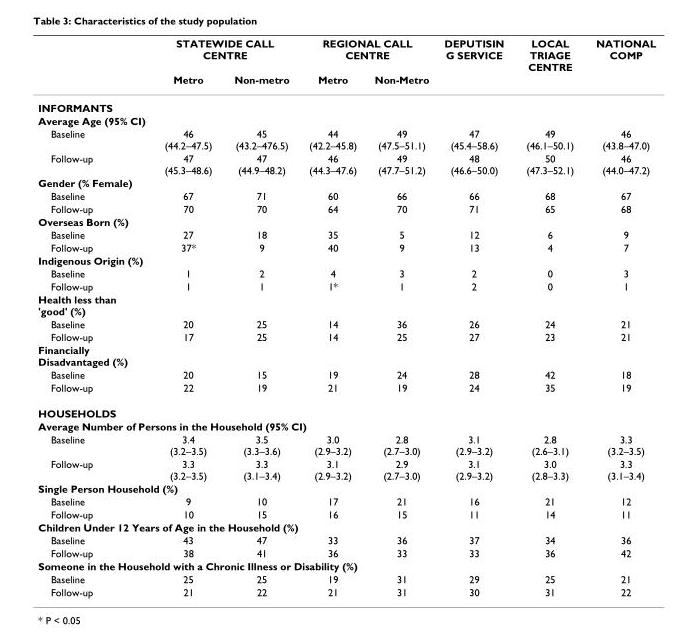table: (37, 36, 655, 597)
table column: (37, 36, 154, 597), (435, 36, 514, 597), (222, 36, 298, 597), (364, 36, 435, 597), (584, 36, 655, 597), (514, 36, 584, 597), (154, 36, 222, 597), (298, 36, 364, 597)
table column header: (37, 36, 655, 93)
table projected row header: (37, 292, 655, 317), (37, 342, 655, 367), (37, 93, 655, 113), (37, 399, 655, 419), (37, 113, 655, 126), (37, 175, 655, 188), (37, 214, 655, 227), (37, 253, 655, 266), (37, 419, 655, 432), (37, 481, 655, 494), (37, 520, 655, 533), (37, 559, 655, 572)
table row: (37, 36, 655, 72), (37, 126, 655, 151), (37, 292, 655, 317), (37, 342, 655, 367), (37, 456, 655, 481), (37, 151, 655, 175), (37, 432, 655, 456), (37, 72, 655, 93), (37, 93, 655, 113), (37, 399, 655, 419), (37, 380, 655, 399), (37, 113, 655, 126), (37, 175, 655, 188), (37, 188, 655, 201), (37, 201, 655, 214), (37, 214, 655, 227), (37, 227, 655, 240), (37, 240, 655, 253), (37, 253, 655, 266), (37, 266, 655, 279), (37, 279, 655, 292), (37, 317, 655, 330), (37, 367, 655, 380), (37, 419, 655, 432), (37, 481, 655, 494), (37, 494, 655, 507), (37, 507, 655, 520), (37, 520, 655, 533), (37, 533, 655, 546), (37, 546, 655, 559), (37, 559, 655, 572), (37, 572, 655, 585), (37, 330, 655, 342), (37, 585, 655, 597)
table spanning cell: (154, 36, 298, 72), (298, 36, 435, 72), (435, 36, 514, 93), (584, 36, 655, 93), (514, 36, 584, 93)
